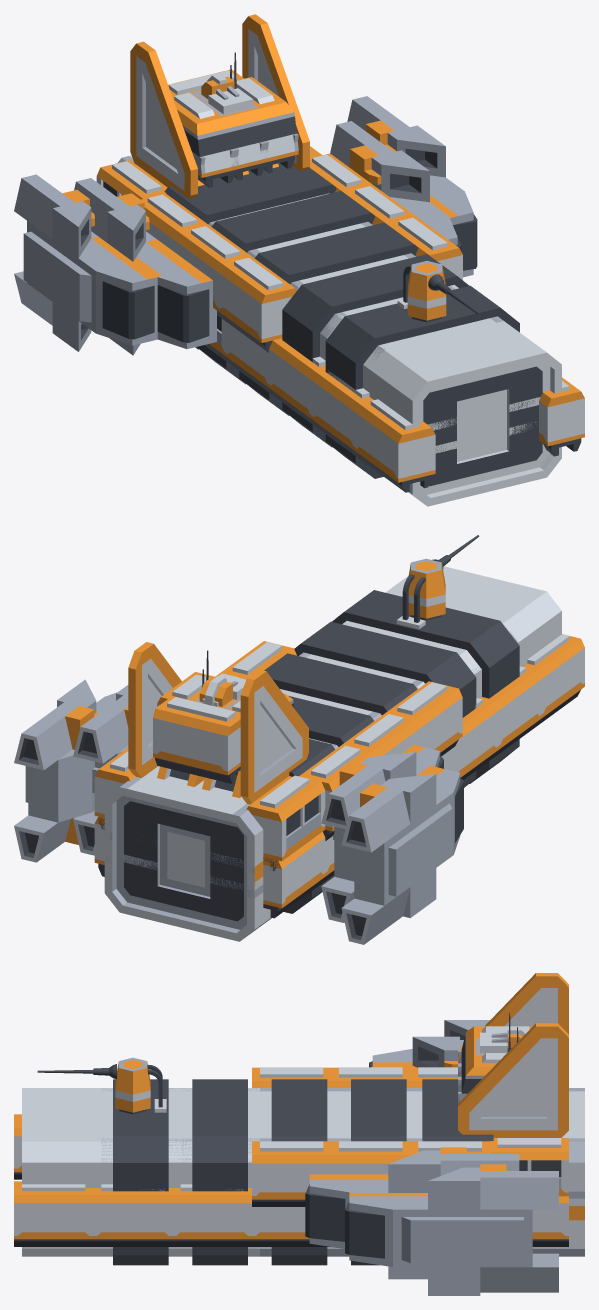
The model's file is cargo_moyen_3.glb.
The picture shows the model from 3 angles, top to bottom: view 1: azimuth 30°, elevation 25°; view 2: azimuth 150°, elevation 25°; view 3: azimuth 270°, elevation 25°; orthographic projection. The views are drawn at different scales.
Parts seen in each view (by area): view 1: mergedBlocks(Clone); view 2: mergedBlocks(Clone); view 3: mergedBlocks(Clone).
Part boxes in pixels (bbox=[...]): mergedBlocks(Clone): bbox=[14, 14, 584, 506]; mergedBlocks(Clone): bbox=[14, 535, 584, 944]; mergedBlocks(Clone): bbox=[14, 973, 584, 1295].
Size of the model in its own units: 5 by 3.3 by 7.2.
1 material, 1 textured.
